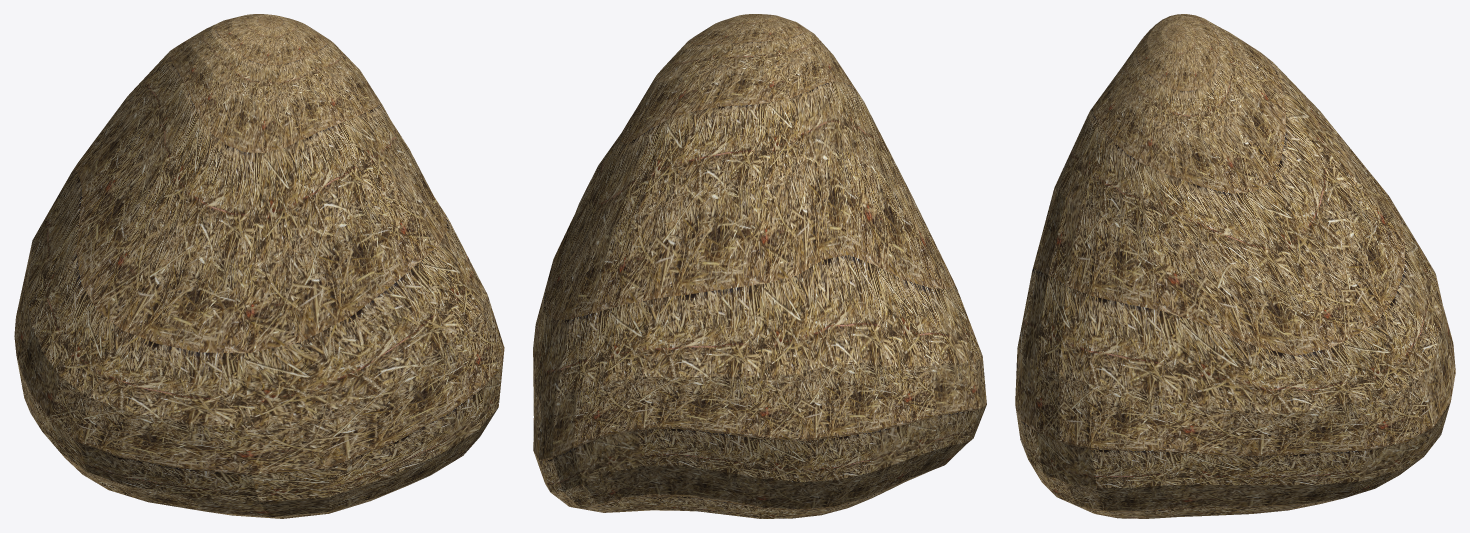
File: Haystack.fbx
3 renders of one model, left to right at view 1: azimuth 30°, elevation 25°; view 2: azimuth 150°, elevation 25°; view 3: azimuth 270°, elevation 25°, orthographic. The views are drawn at different scales.
Visible parts, largest first — view 1: Sphere; view 2: Sphere; view 3: Sphere.
Part boxes in pixels (left/top/right/bottom): Sphere: left=14, top=14, right=504, bottom=518; Sphere: left=533, top=14, right=986, bottom=518; Sphere: left=1015, top=14, right=1455, bottom=518.
Bounding box in the file's own units: 975 × 997 × 922.
1 material, 1 textured.
